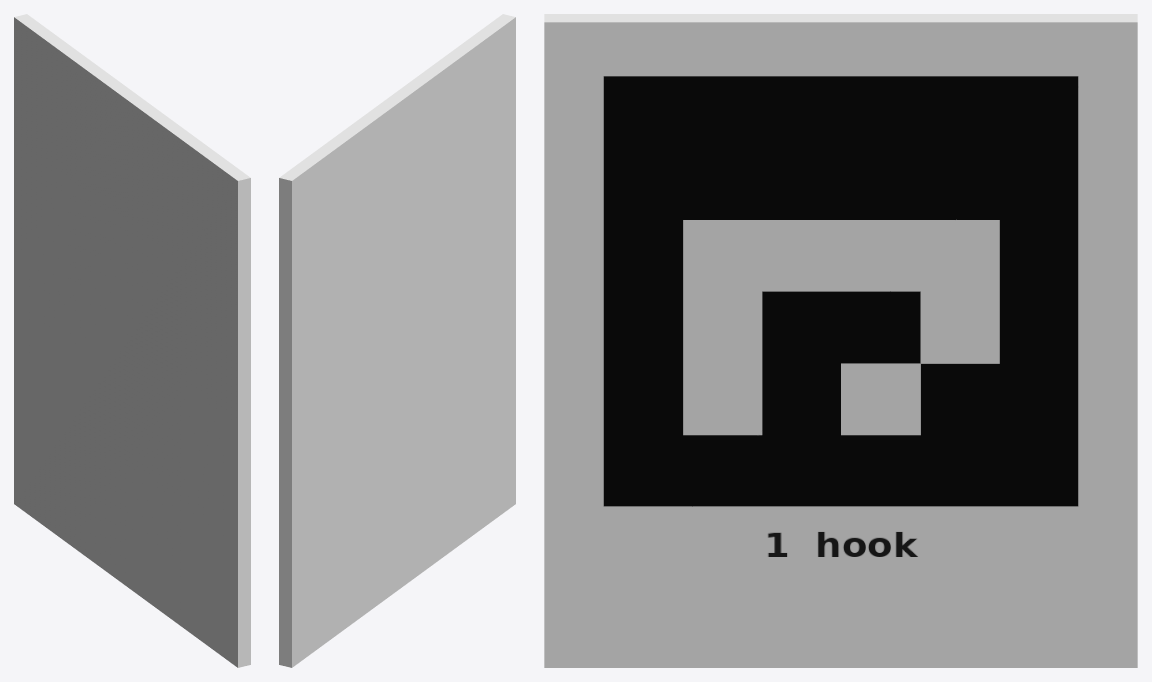
The model's file is tag_hook.dae.
The picture shows the model from 3 angles, left to right: view 1: azimuth 30°, elevation 25°; view 2: azimuth 150°, elevation 25°; view 3: azimuth 270°, elevation 25°; orthographic projection. The views are drawn at different scales.
Visible parts, largest first — view 1: tag_hook; view 2: tag_hook; view 3: tag_hook.
Boxes of the visible parts, x1=… form: tag_hook: x1=14, y1=14, x2=250, y2=667; tag_hook: x1=279, y1=14, x2=515, y2=667; tag_hook: x1=544, y1=14, x2=1137, y2=667.
Bounding box in the file's own units: 0.01 × 0.3 × 0.36.
1 material, 1 textured.
